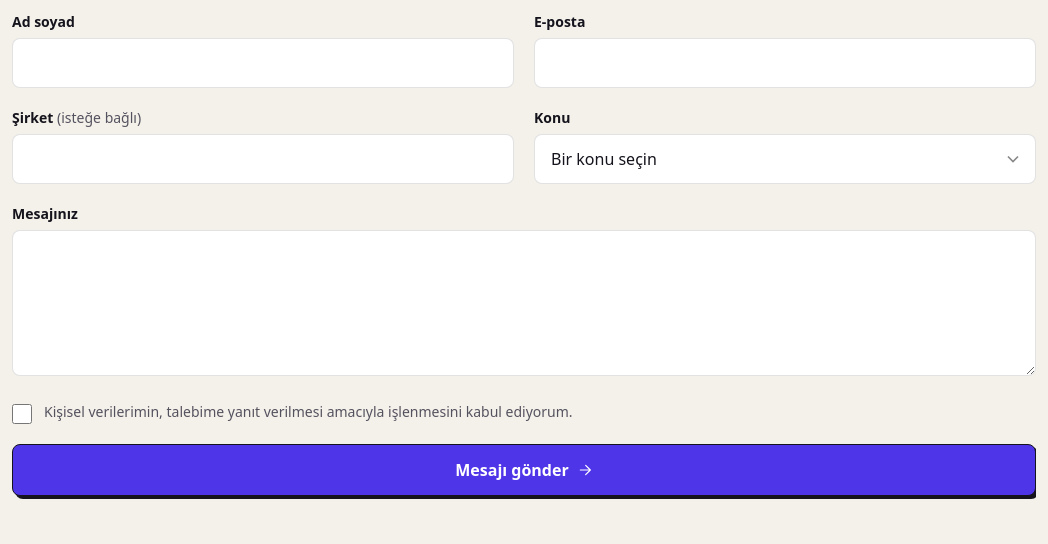
Test: ContactForm › geçersiz e-postayı yakalar
The image size is (1048, 544).
Step 1. Type "elif@" into the field labelled "E-posta" → (785, 63), box [534,38,1036,88]
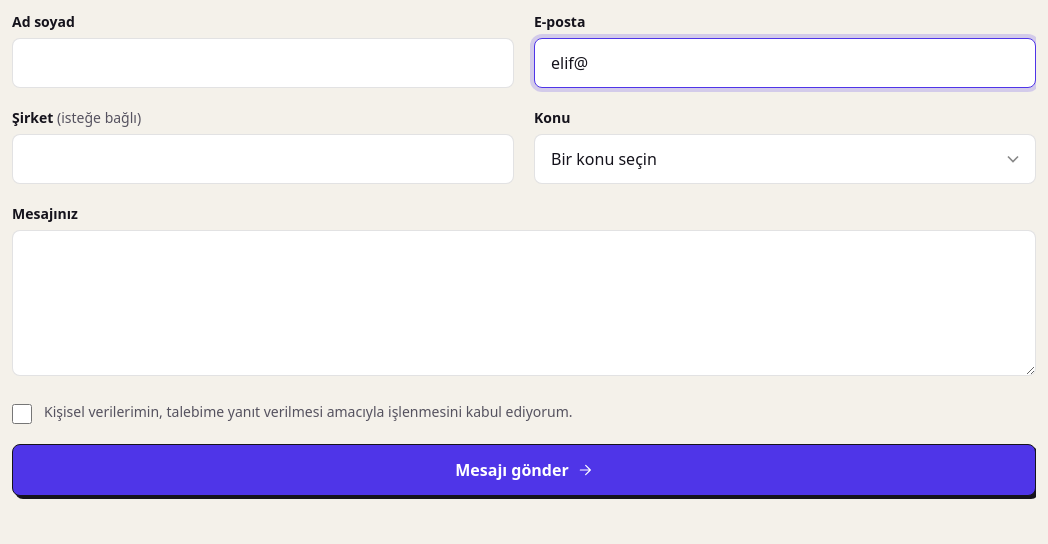
Step 2. Press Tab
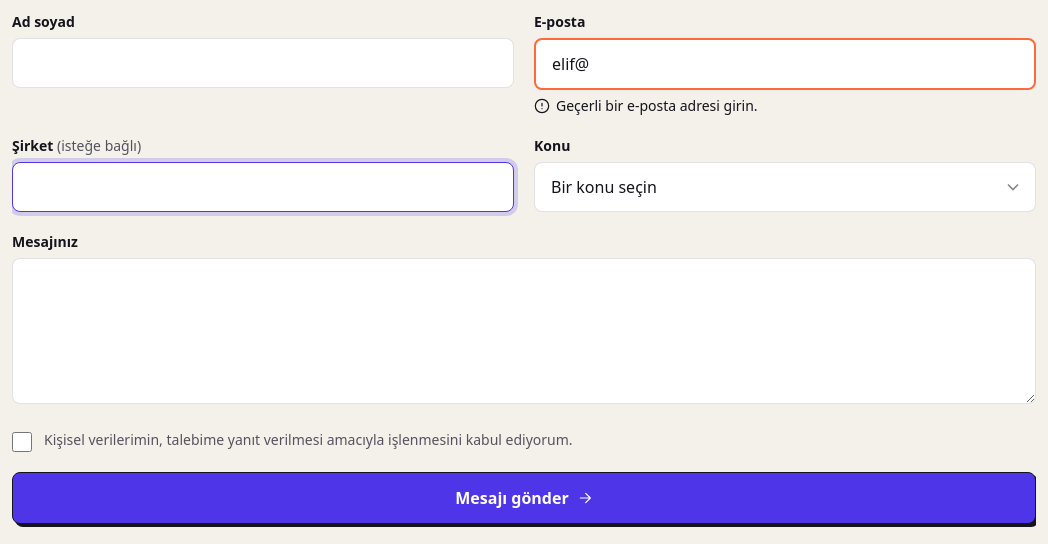
Now the text "Geçerli bir e-posta adresi girin." is shown, box [533,96,758,124]
